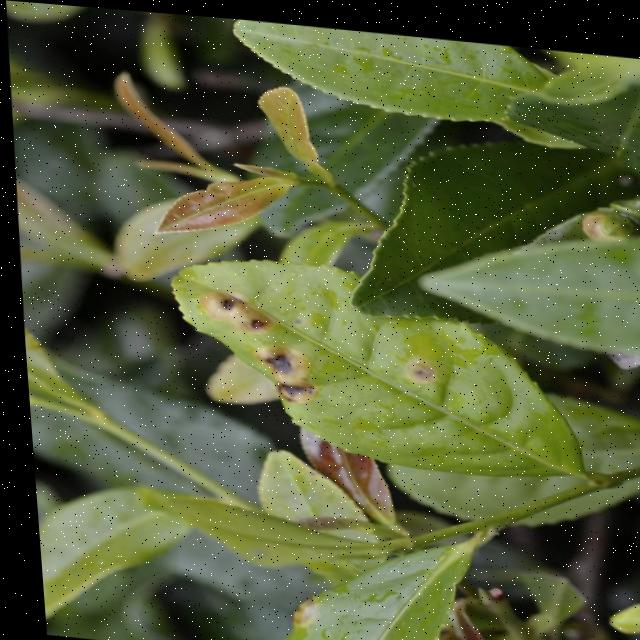Tea cake: (250, 329, 312, 396), (194, 285, 277, 328), (393, 342, 435, 377)
